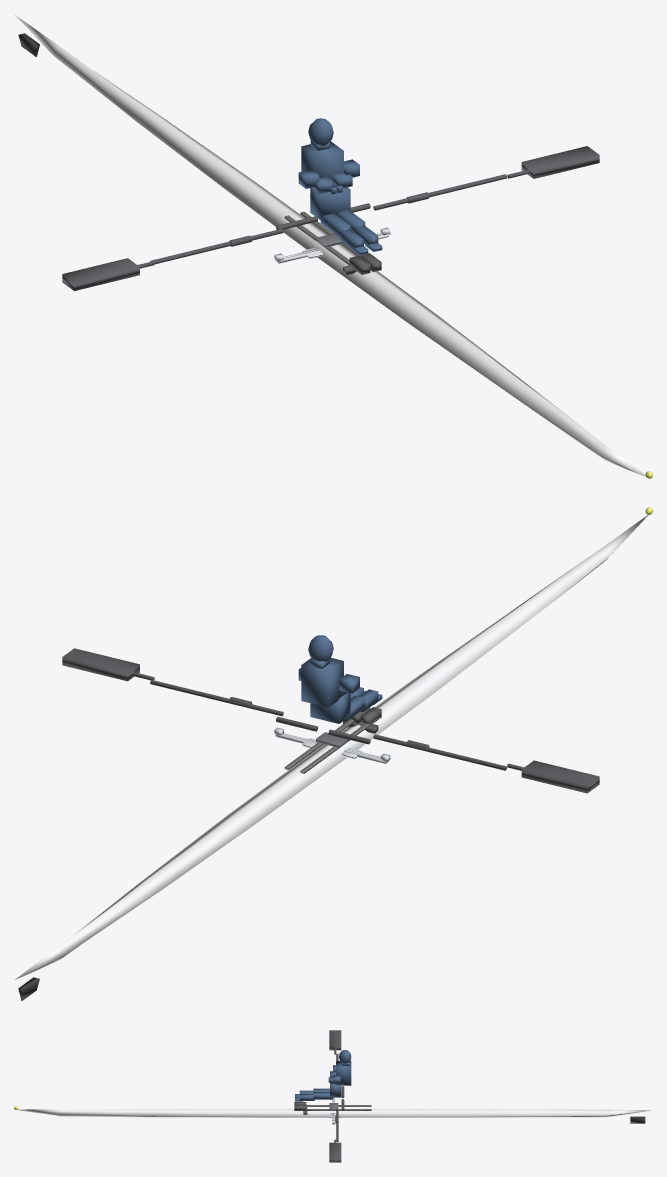
File: scull.glb
3 views of the same model, one above another, from view 1: azimuth 30°, elevation 25°; view 2: azimuth 150°, elevation 25°; view 3: azimuth 270°, elevation 25° (orthographic). The views are drawn at different scales.
Visible parts, largest first — view 1: Hull, Rower, LeftOar, RightOar; view 2: Hull, Rower, LeftOar, RightOar, Riggers, RailsNode; view 3: Hull, Rower, RightOar, LeftOar, RailsNode.
Part boxes in pixels (<box>): Hull: <box>14,14,645,476</box>; Rower: <box>298,118,382,255</box>; LeftOar: <box>62,216,317,290</box>; RightOar: <box>350,146,599,212</box>; Hull: <box>15,515,648,979</box>; Rower: <box>298,635,382,723</box>; LeftOar: <box>328,729,599,793</box>; RightOar: <box>62,648,317,731</box>; Riggers: <box>274,727,390,763</box>; RailsNode: <box>284,717,379,773</box>; Hull: <box>17,1108,651,1117</box>; Rower: <box>295,1050,351,1101</box>; RightOar: <box>329,1099,344,1162</box>; LeftOar: <box>329,1030,344,1097</box>; RailsNode: <box>295,1105,371,1110</box>.
Bounding box in the file's own units: 4 × 1.07 × 8.41.
